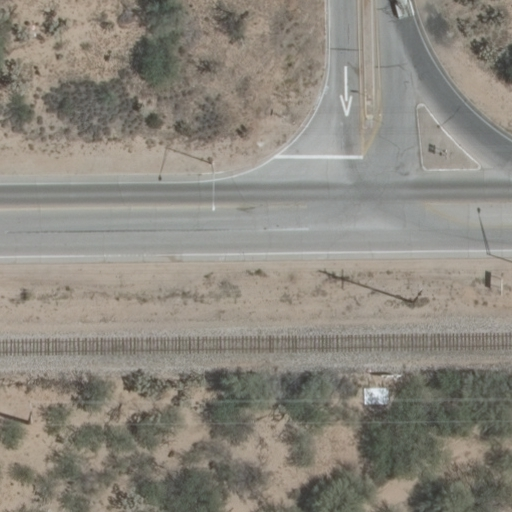DT: (405, 286, 428, 309)
